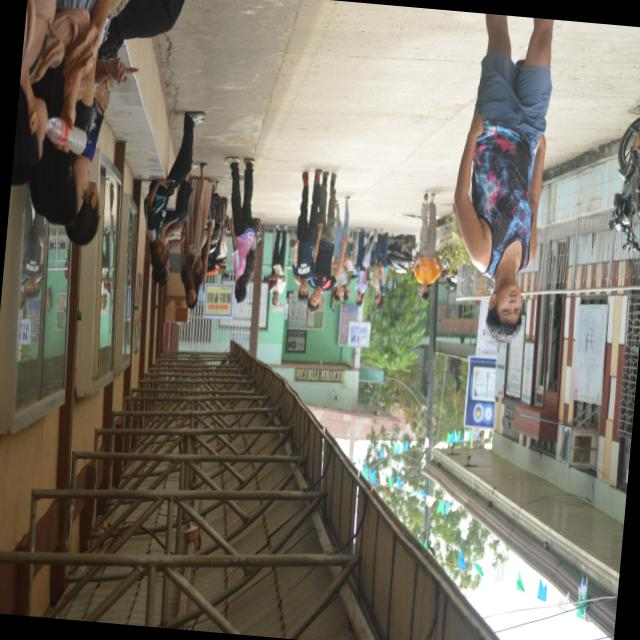person: (455, 15, 553, 341), (11, 0, 100, 184), (83, 0, 184, 160), (146, 111, 205, 269), (308, 171, 347, 312), (181, 162, 213, 307), (225, 156, 255, 301), (293, 169, 322, 302), (163, 162, 199, 250), (414, 193, 441, 300), (22, 198, 45, 299), (356, 227, 377, 306), (269, 224, 288, 304), (332, 196, 349, 269), (101, 229, 112, 309)
